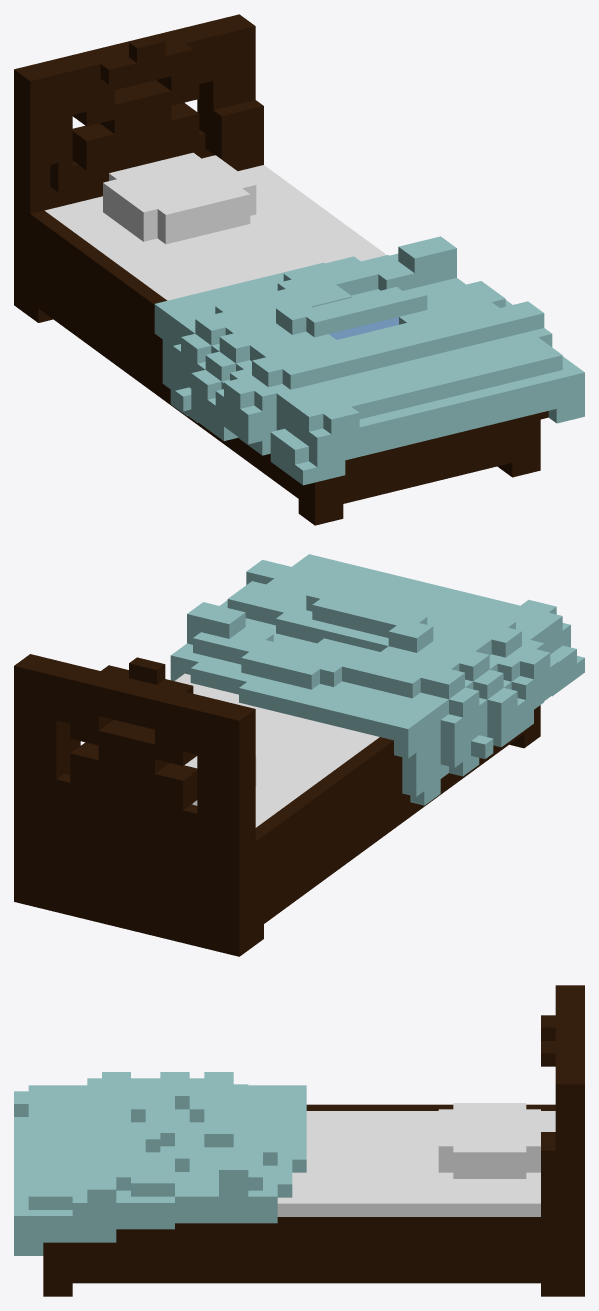
File: bed.obj
The picture shows the model from 3 angles, top to bottom: view 1: azimuth 30°, elevation 25°; view 2: azimuth 150°, elevation 25°; view 3: azimuth 270°, elevation 25°; orthographic projection. The views are drawn at different scales.
Bounding box in the file's own units: 21 × 17 × 39.
1 material, 1 textured.
